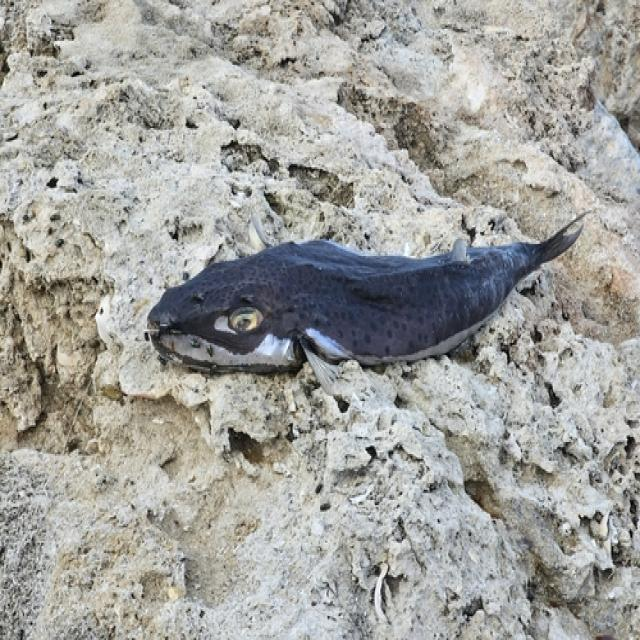Balik: (148, 216, 583, 390)
